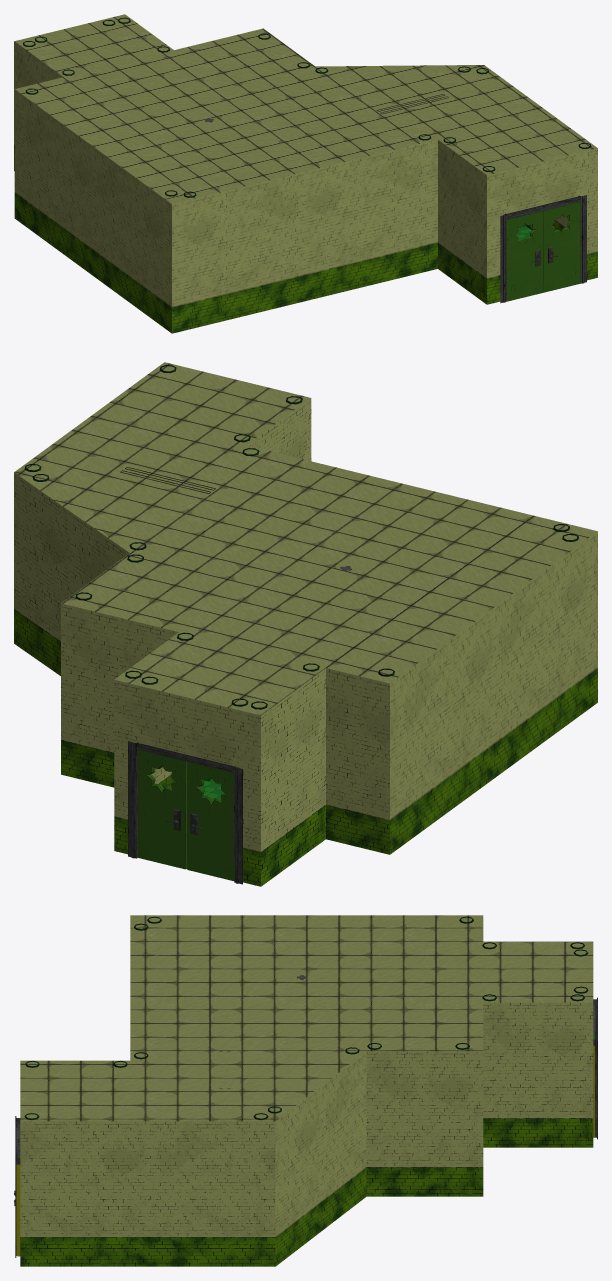
The model's file is Level10.fbx.
3 renders of one model, top to bottom at view 1: azimuth 30°, elevation 25°; view 2: azimuth 150°, elevation 25°; view 3: azimuth 270°, elevation 25°, orthographic. The views are drawn at different scales.
Visible parts, largest first — view 1: Wall, Roof, polySurface133, polySurface132, polySurface183; view 2: Roof, Wall, polySurface132, polySurface133, polySurface183; view 3: Wall, Roof, polySurface183 (×2), polySurface132.
Boxes of the visible parts, left/top/right/bottom form: Wall: left=14, top=41, right=597, bottom=333; Roof: left=14, top=14, right=597, bottom=203; polySurface133: left=506, top=211, right=543, bottom=301; polySurface132: left=543, top=202, right=580, bottom=292; polySurface183: left=500, top=195, right=586, bottom=303; Roof: left=14, top=362, right=597, bottom=715; Wall: left=14, top=398, right=597, bottom=886; polySurface132: left=137, top=749, right=187, bottom=869; polySurface133: left=187, top=761, right=234, bottom=880; polySurface183: left=128, top=741, right=242, bottom=884; Wall: left=20, top=1002, right=593, bottom=1266; Roof: left=20, top=915, right=593, bottom=1121; polySurface183 (×2): left=15, top=997, right=597, bottom=1257; polySurface132: left=14, top=1164, right=20, bottom=1256.
Bounding box in the file's own units: 31.57 × 10.44 × 37.79.
Materials: 5 (4 with a texture image).
